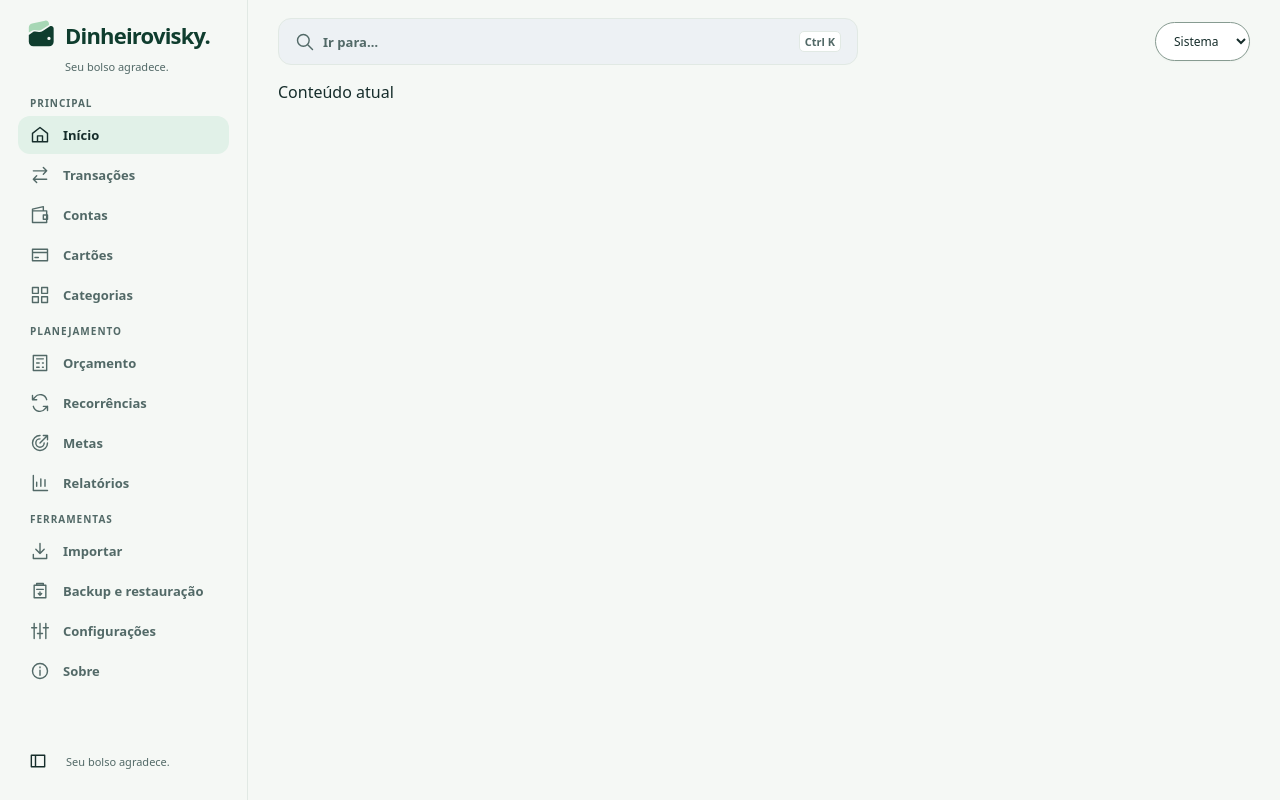
Test: filtra páginas ignorando acentos e navega pelo teclado sem ações financeiras
Press k
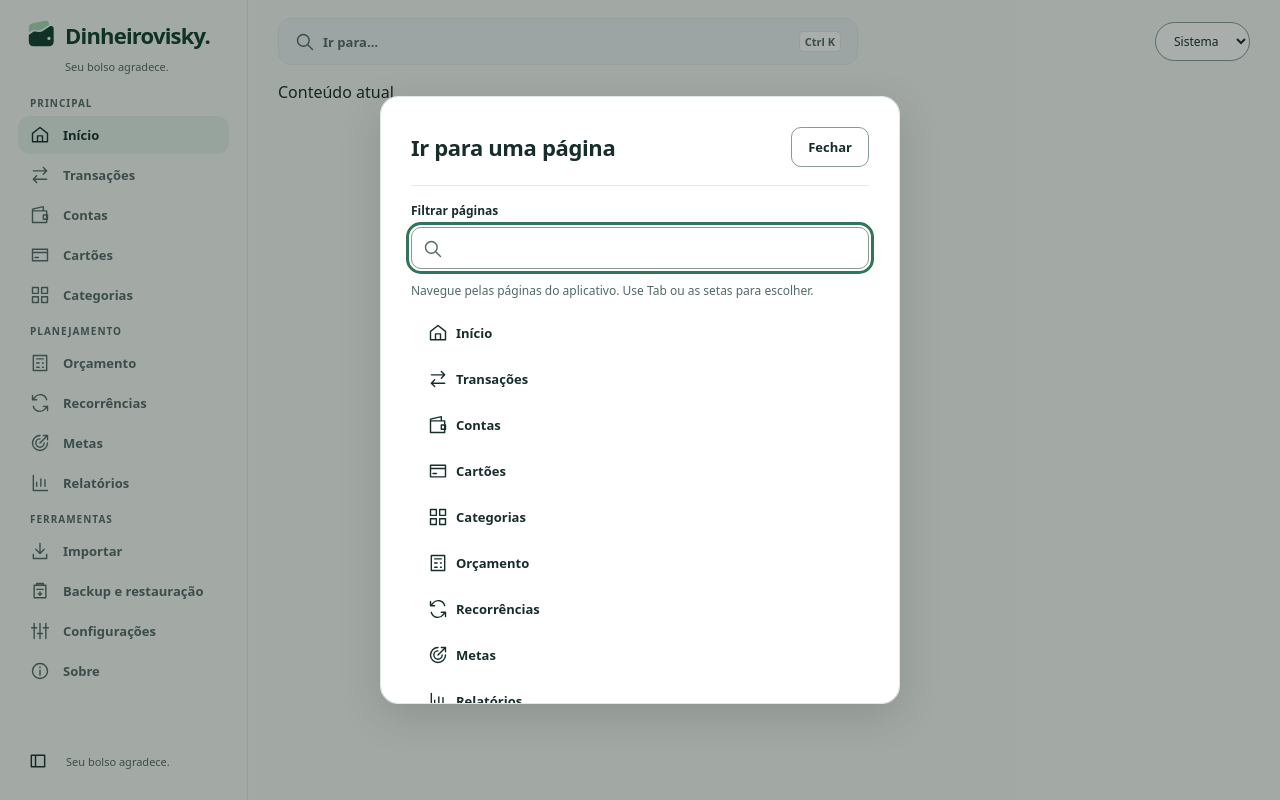
Type "orcamento" into the search field labelled "Filtrar páginas" at (640, 248), box [411,227,869,269]
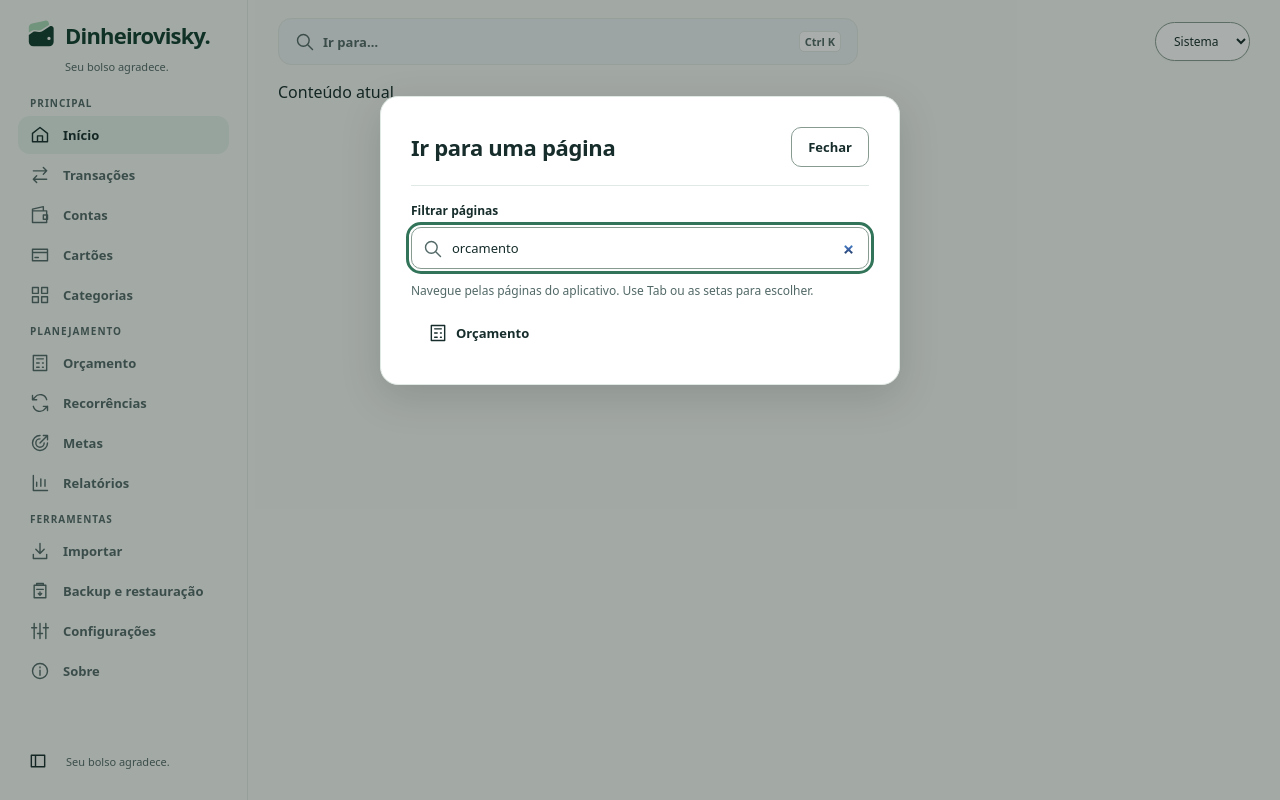
Press ArrowDown in the search field labelled "Filtrar páginas", box [411,227,869,269]
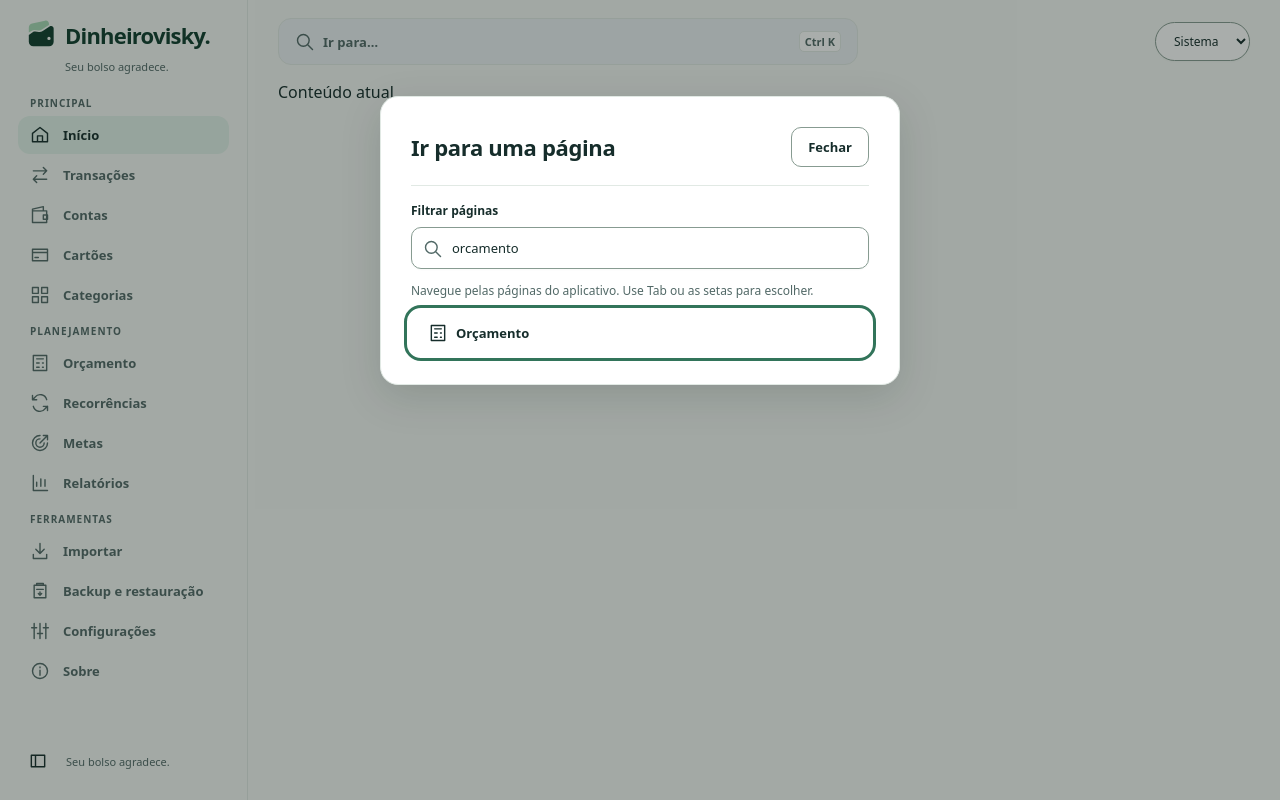
Press ArrowUp in the button "Orçamento", box [411,312,869,354]
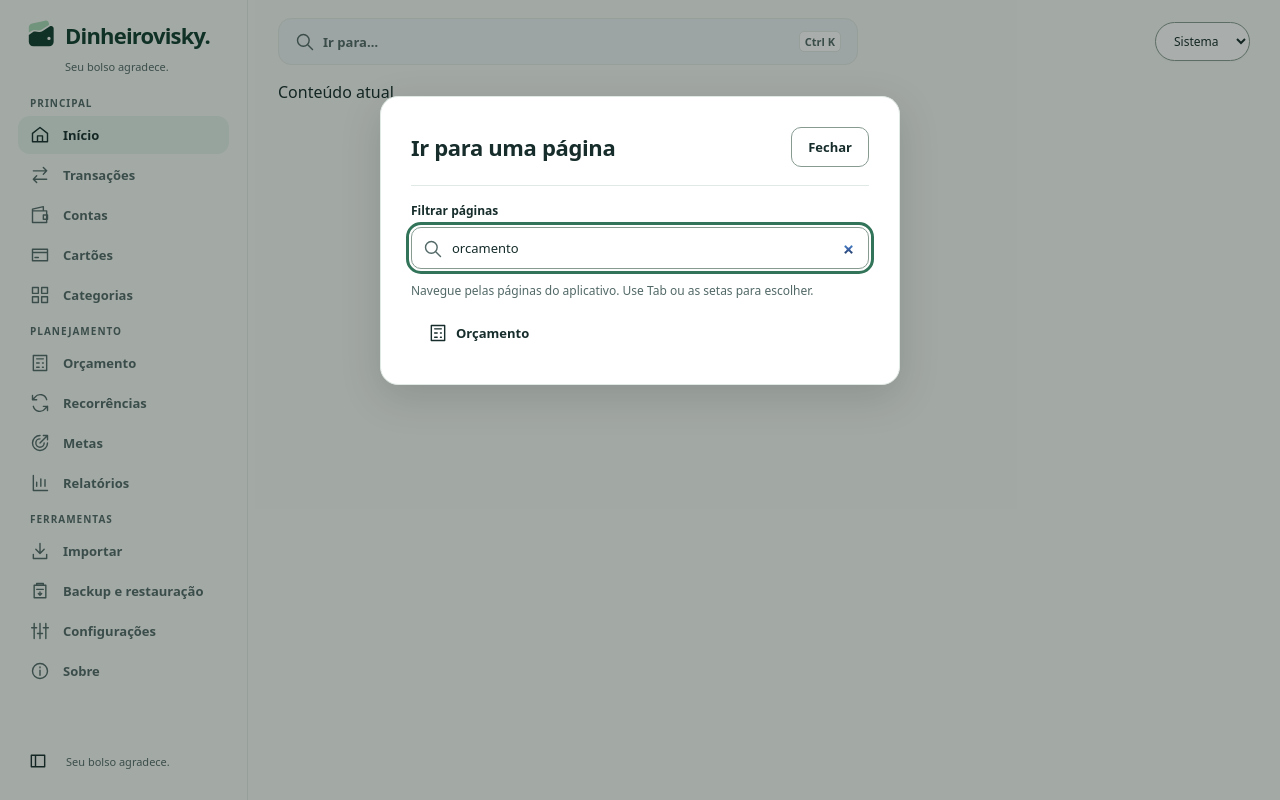
Press Enter in the search field labelled "Filtrar páginas", box [411,227,869,269]
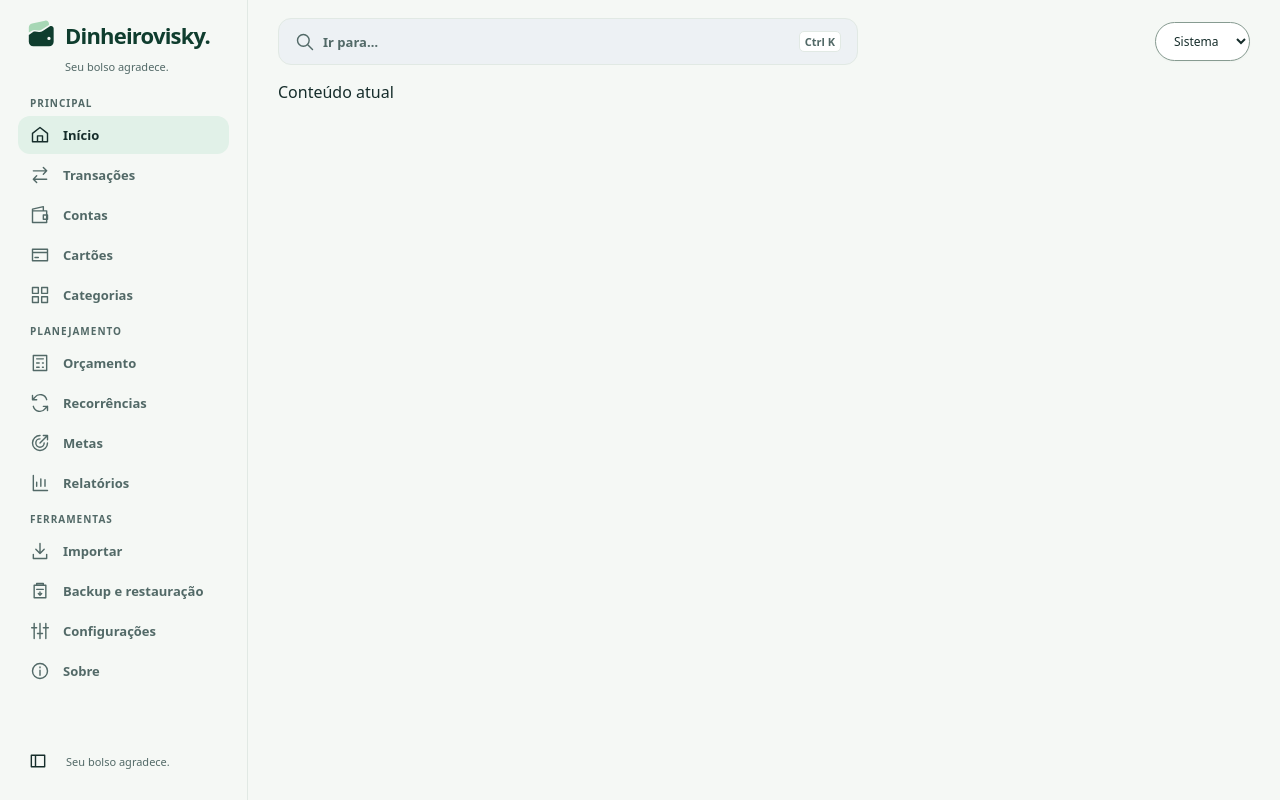
Expected: the dialog is gone
